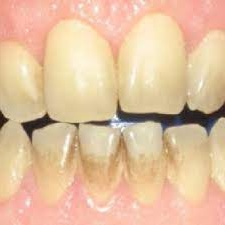Tooth Discoloration: (29, 126, 196, 205)
